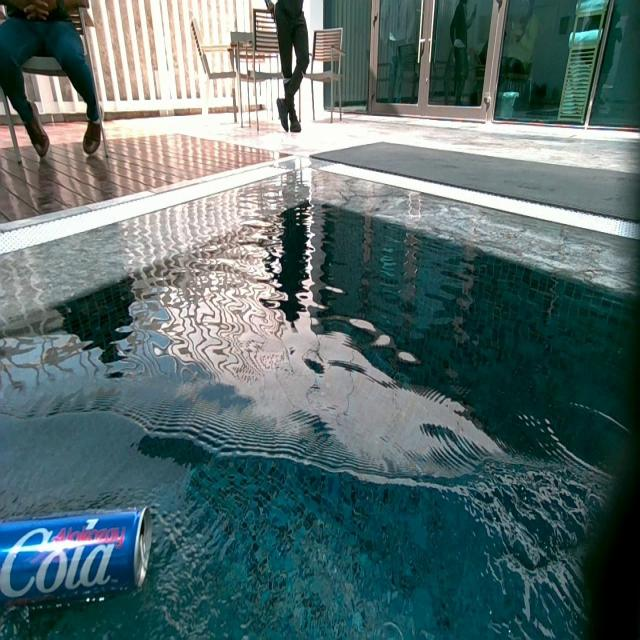Cans: (0, 505, 154, 611)
